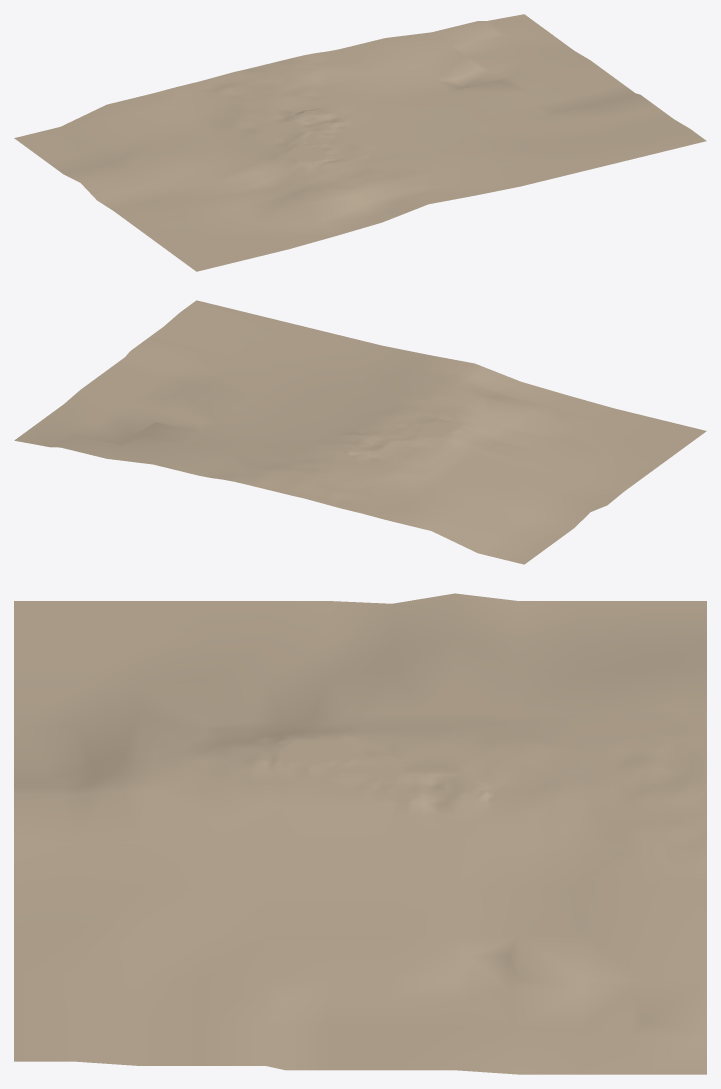
Rendered from seabed.dae.
The picture shows the model from 3 angles, top to bottom: view 1: azimuth 30°, elevation 25°; view 2: azimuth 150°, elevation 25°; view 3: azimuth 270°, elevation 25°; orthographic projection. The views are drawn at different scales.
Visible parts, largest first — view 1: Seabed; view 2: Seabed; view 3: Seabed.
Part boxes in pixels (left/top/right/bottom): Seabed: left=14, top=14, right=706, bottom=271; Seabed: left=14, top=300, right=706, bottom=564; Seabed: left=14, top=593, right=706, bottom=1074.
Bounding box in the file's own units: 2386 × 1479 × 65.35.
